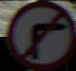Don't turn right: (10, 4, 66, 55)
